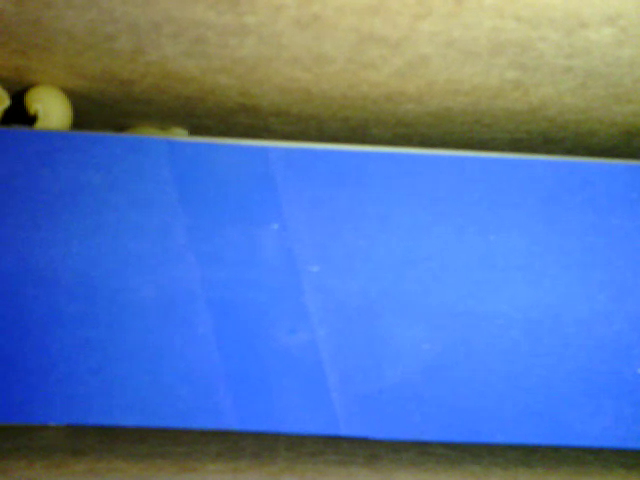shell: (20, 79, 76, 130)
